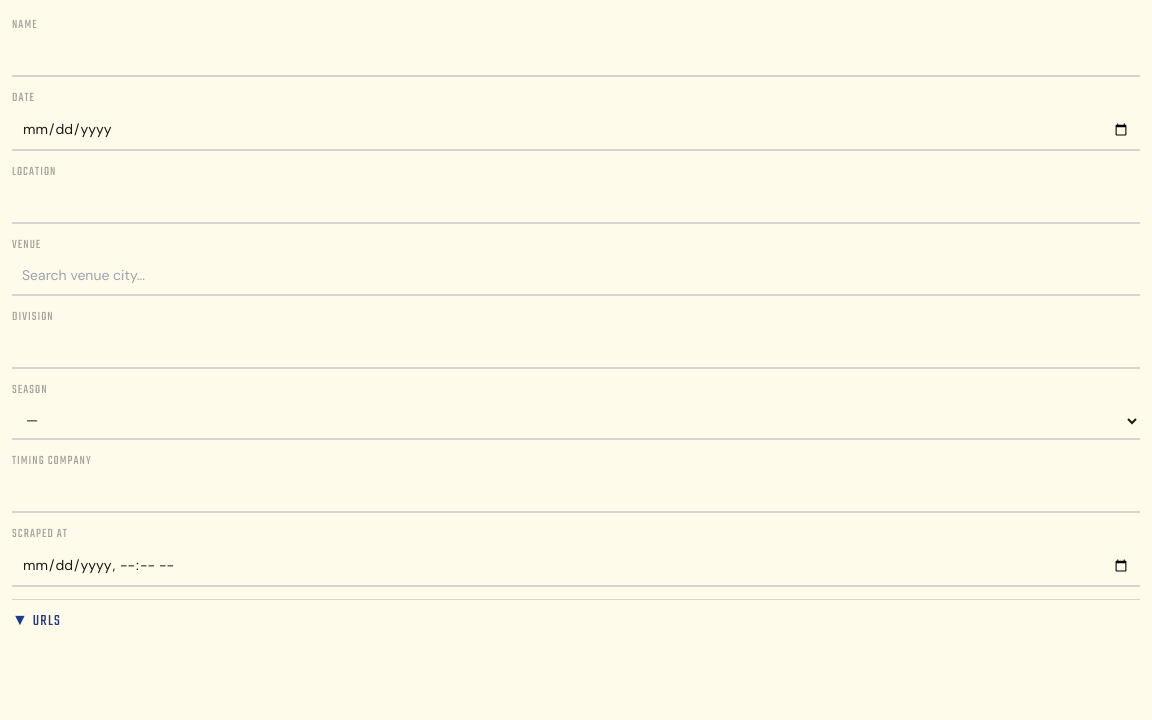
Test: MeetForm › pre-fills scraped_at with now() when focused and empty
The image size is (1152, 720).
Focus the field labelled "Scraped At" at x=576, y=566, box [12,546,1140,587]
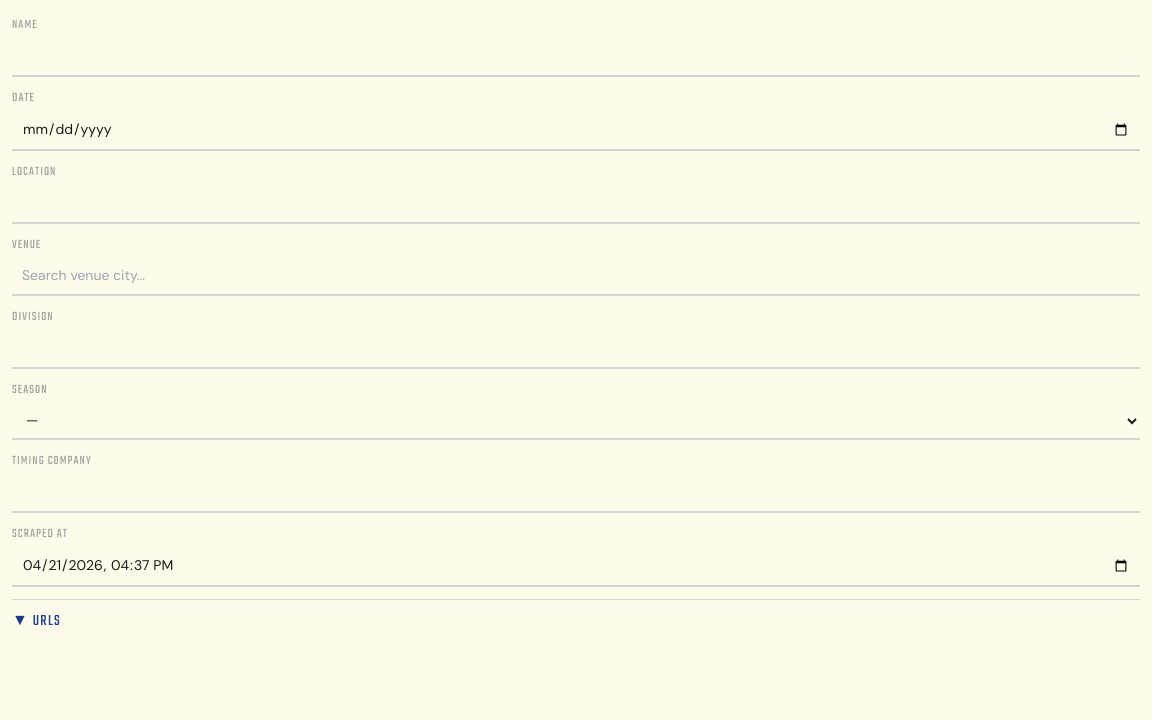
expect the field labelled "Scraped At" is not empty: met, box [12,546,1140,587]
